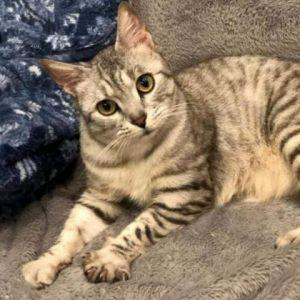bengal: (41, 1, 184, 150)
